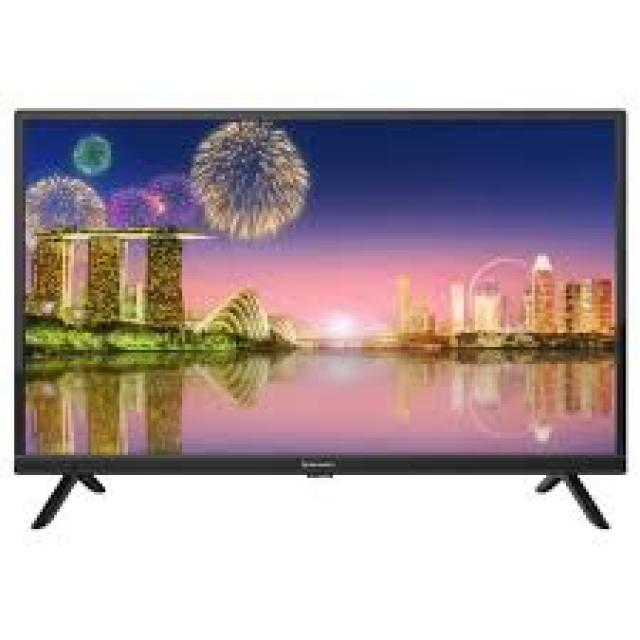tv: (10, 103, 630, 480)
